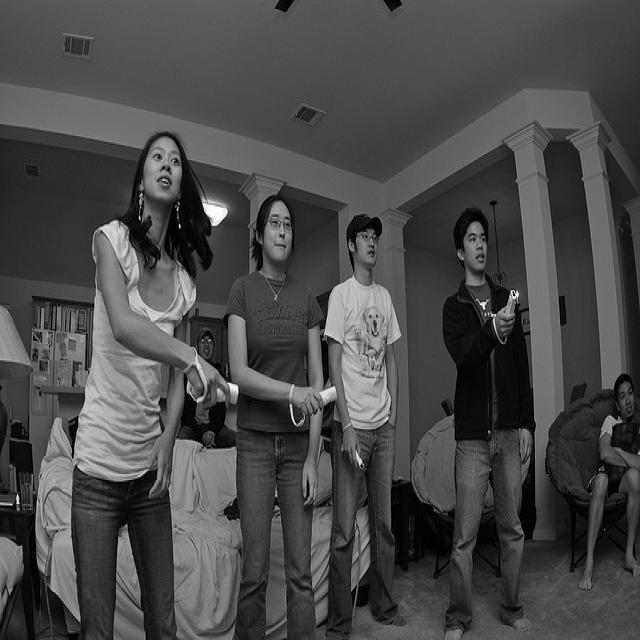monkey: (73, 131, 232, 633), (227, 198, 323, 629), (441, 209, 536, 640), (325, 213, 407, 631), (577, 372, 640, 591), (178, 326, 236, 451)
